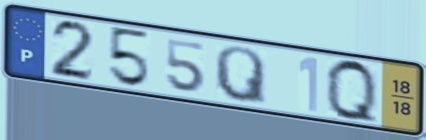1: (297, 55, 320, 114)
2: (49, 19, 98, 84)
5: (105, 25, 153, 89), (163, 36, 207, 94)
Q: (323, 56, 382, 129), (212, 45, 270, 109)
